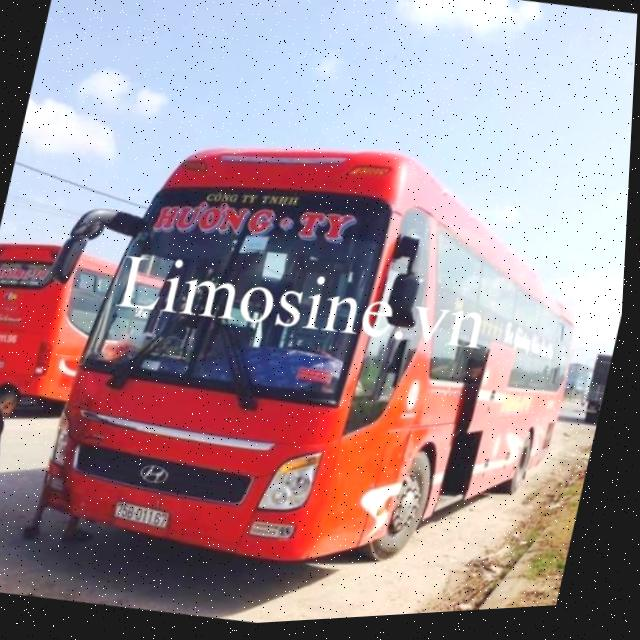car: (0, 86, 619, 638)
plate: (105, 488, 179, 539)
